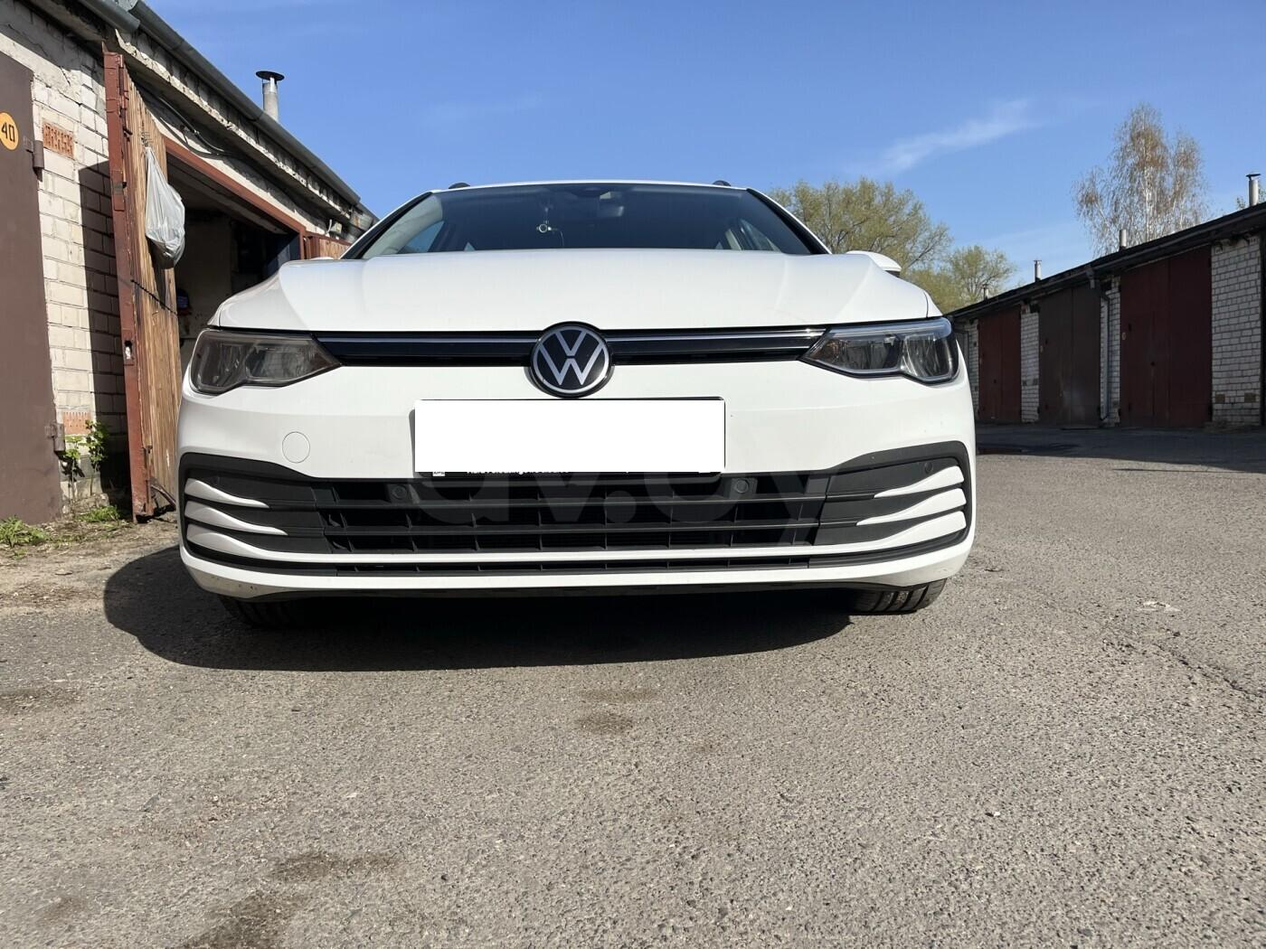Golf_2019: (165, 178, 985, 650)
